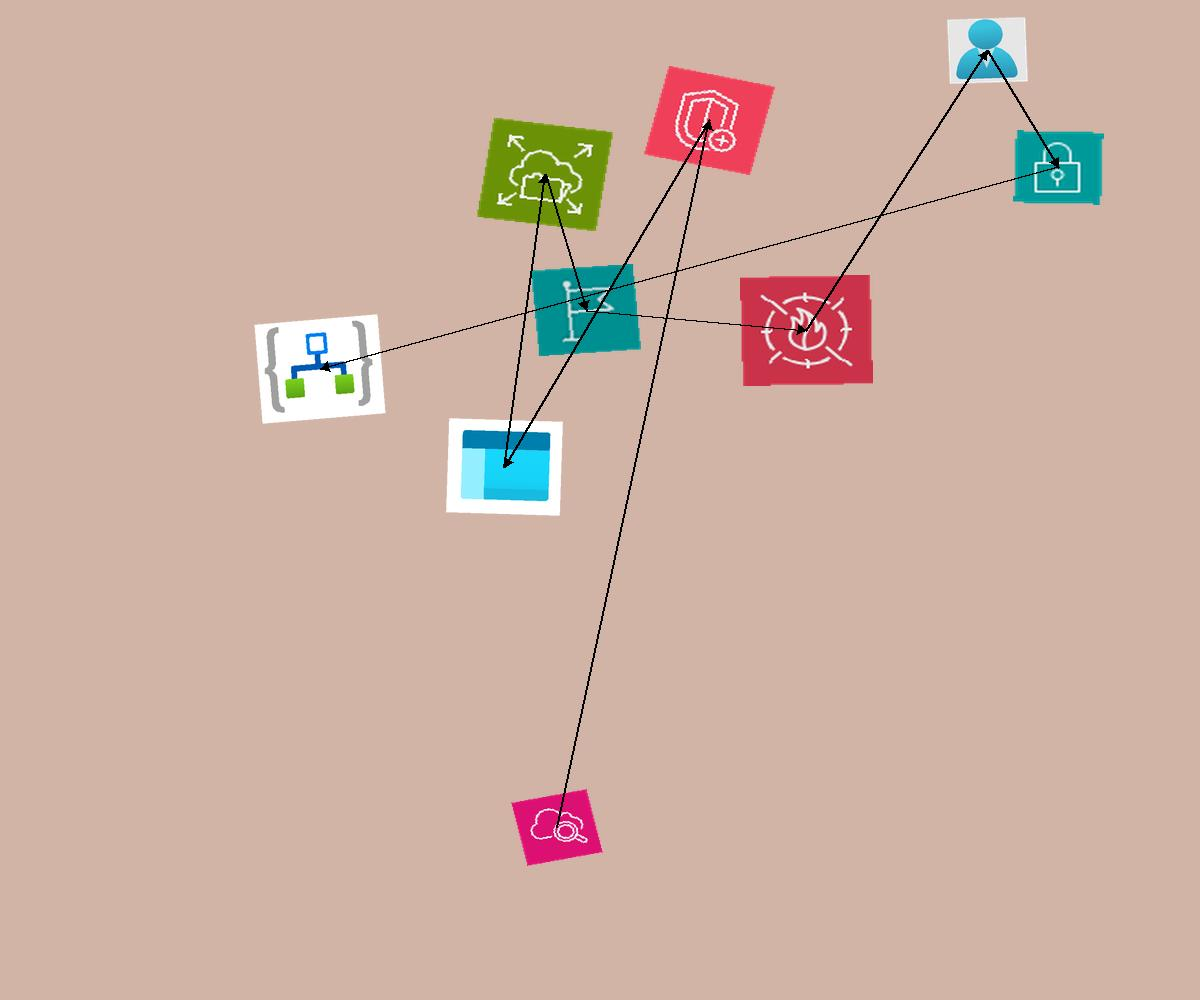AWS-CloudWatch: (511, 789, 603, 866)
AWS-EFS: (476, 117, 614, 232)
AWS-Private-subnet: (1013, 130, 1104, 205)
AWS-Region: (530, 263, 642, 357)
AWS-Shield: (643, 65, 776, 176)
AWS-WAF: (740, 275, 873, 386)
Azure_integration-204-Logic-Apps: (254, 314, 386, 424)
Azure_management-portal: (446, 418, 563, 516)
Azure_users: (947, 17, 1028, 84)
